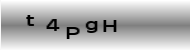4: (44, 17, 59, 32)
H: (102, 19, 118, 33)
P: (65, 26, 80, 40)
g: (85, 20, 98, 34)
t: (24, 13, 36, 27)
